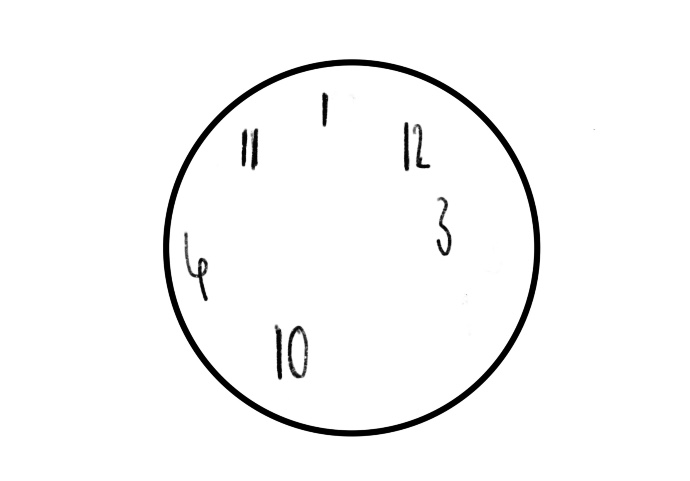eleven: (236, 124, 262, 173)
four: (180, 228, 214, 303)
one: (311, 91, 339, 128)
ten: (268, 319, 313, 386)
three: (427, 193, 457, 263)
twelve: (395, 114, 432, 173)
